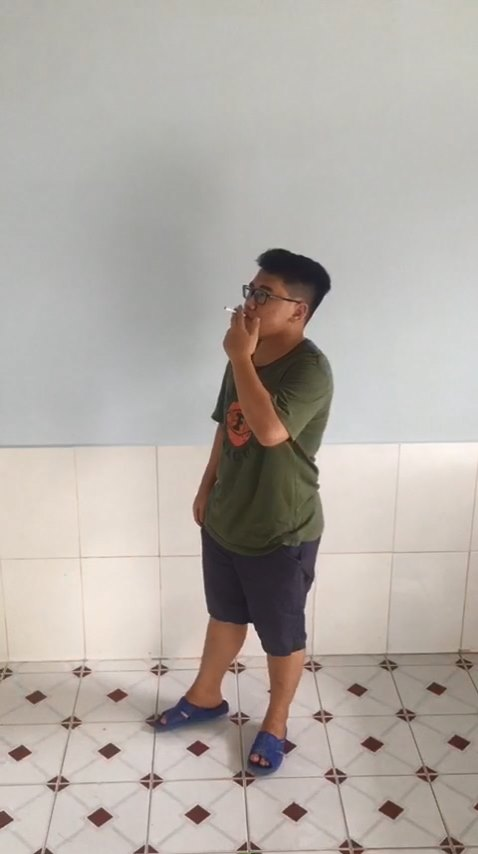cigarette: (223, 298, 253, 324)
person: (131, 218, 366, 786)
